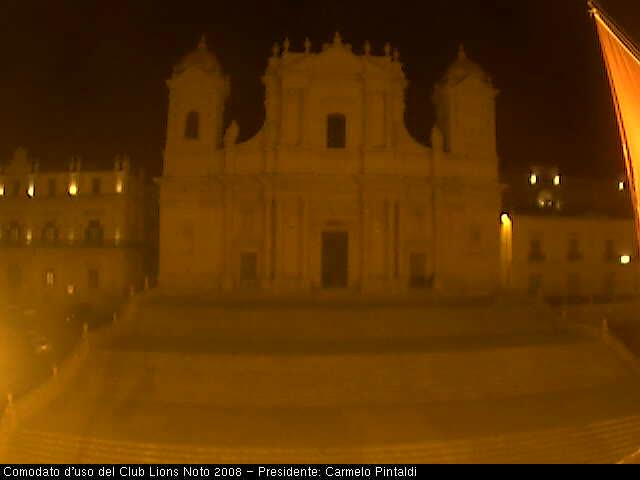person: (429, 272, 436, 291), (411, 276, 418, 290), (419, 273, 425, 289)
